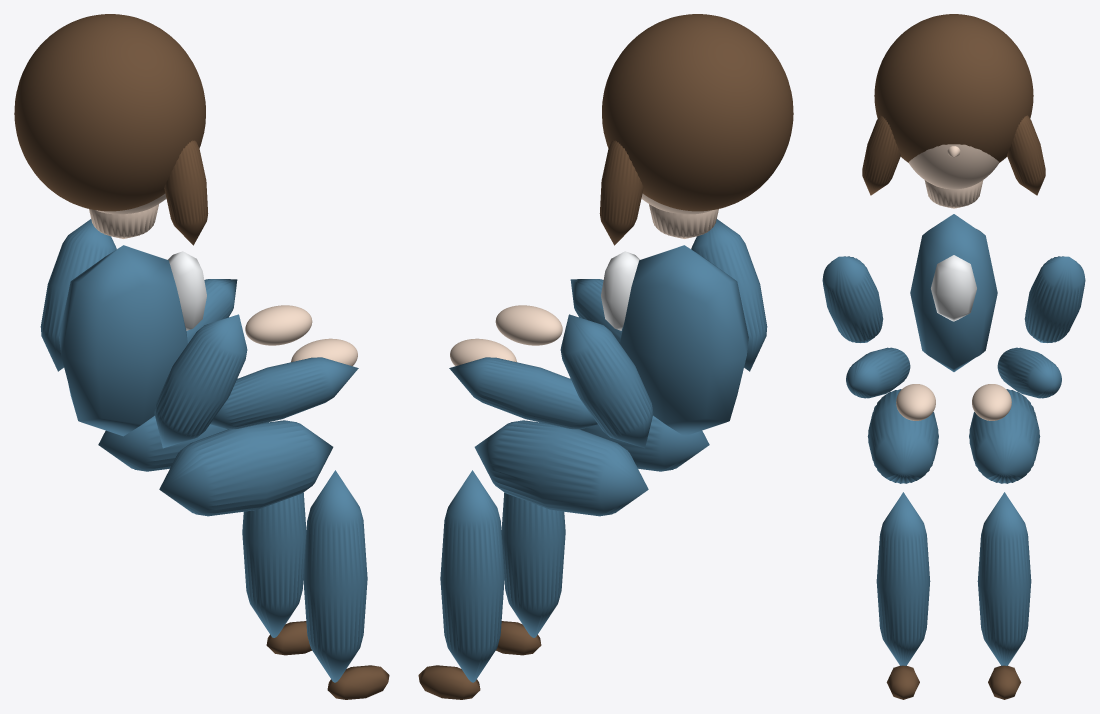
File: prisoner_alice.glb
3 renders of one model, left to right at view 1: azimuth 30°, elevation 25°; view 2: azimuth 150°, elevation 25°; view 3: azimuth 270°, elevation 25°, orthographic. The views are drawn at different scales.
Parts seen in each view (by area): view 1: Prisoner_Alice; view 2: Prisoner_Alice; view 3: Prisoner_Alice.
Part boxes in pixels (<box>): Prisoner_Alice: <box>14,14,389,699</box>; Prisoner_Alice: <box>418,14,793,699</box>; Prisoner_Alice: <box>822,14,1085,699</box>.
Size of the model in its own units: 1.01 by 2.04 by 0.8324.
